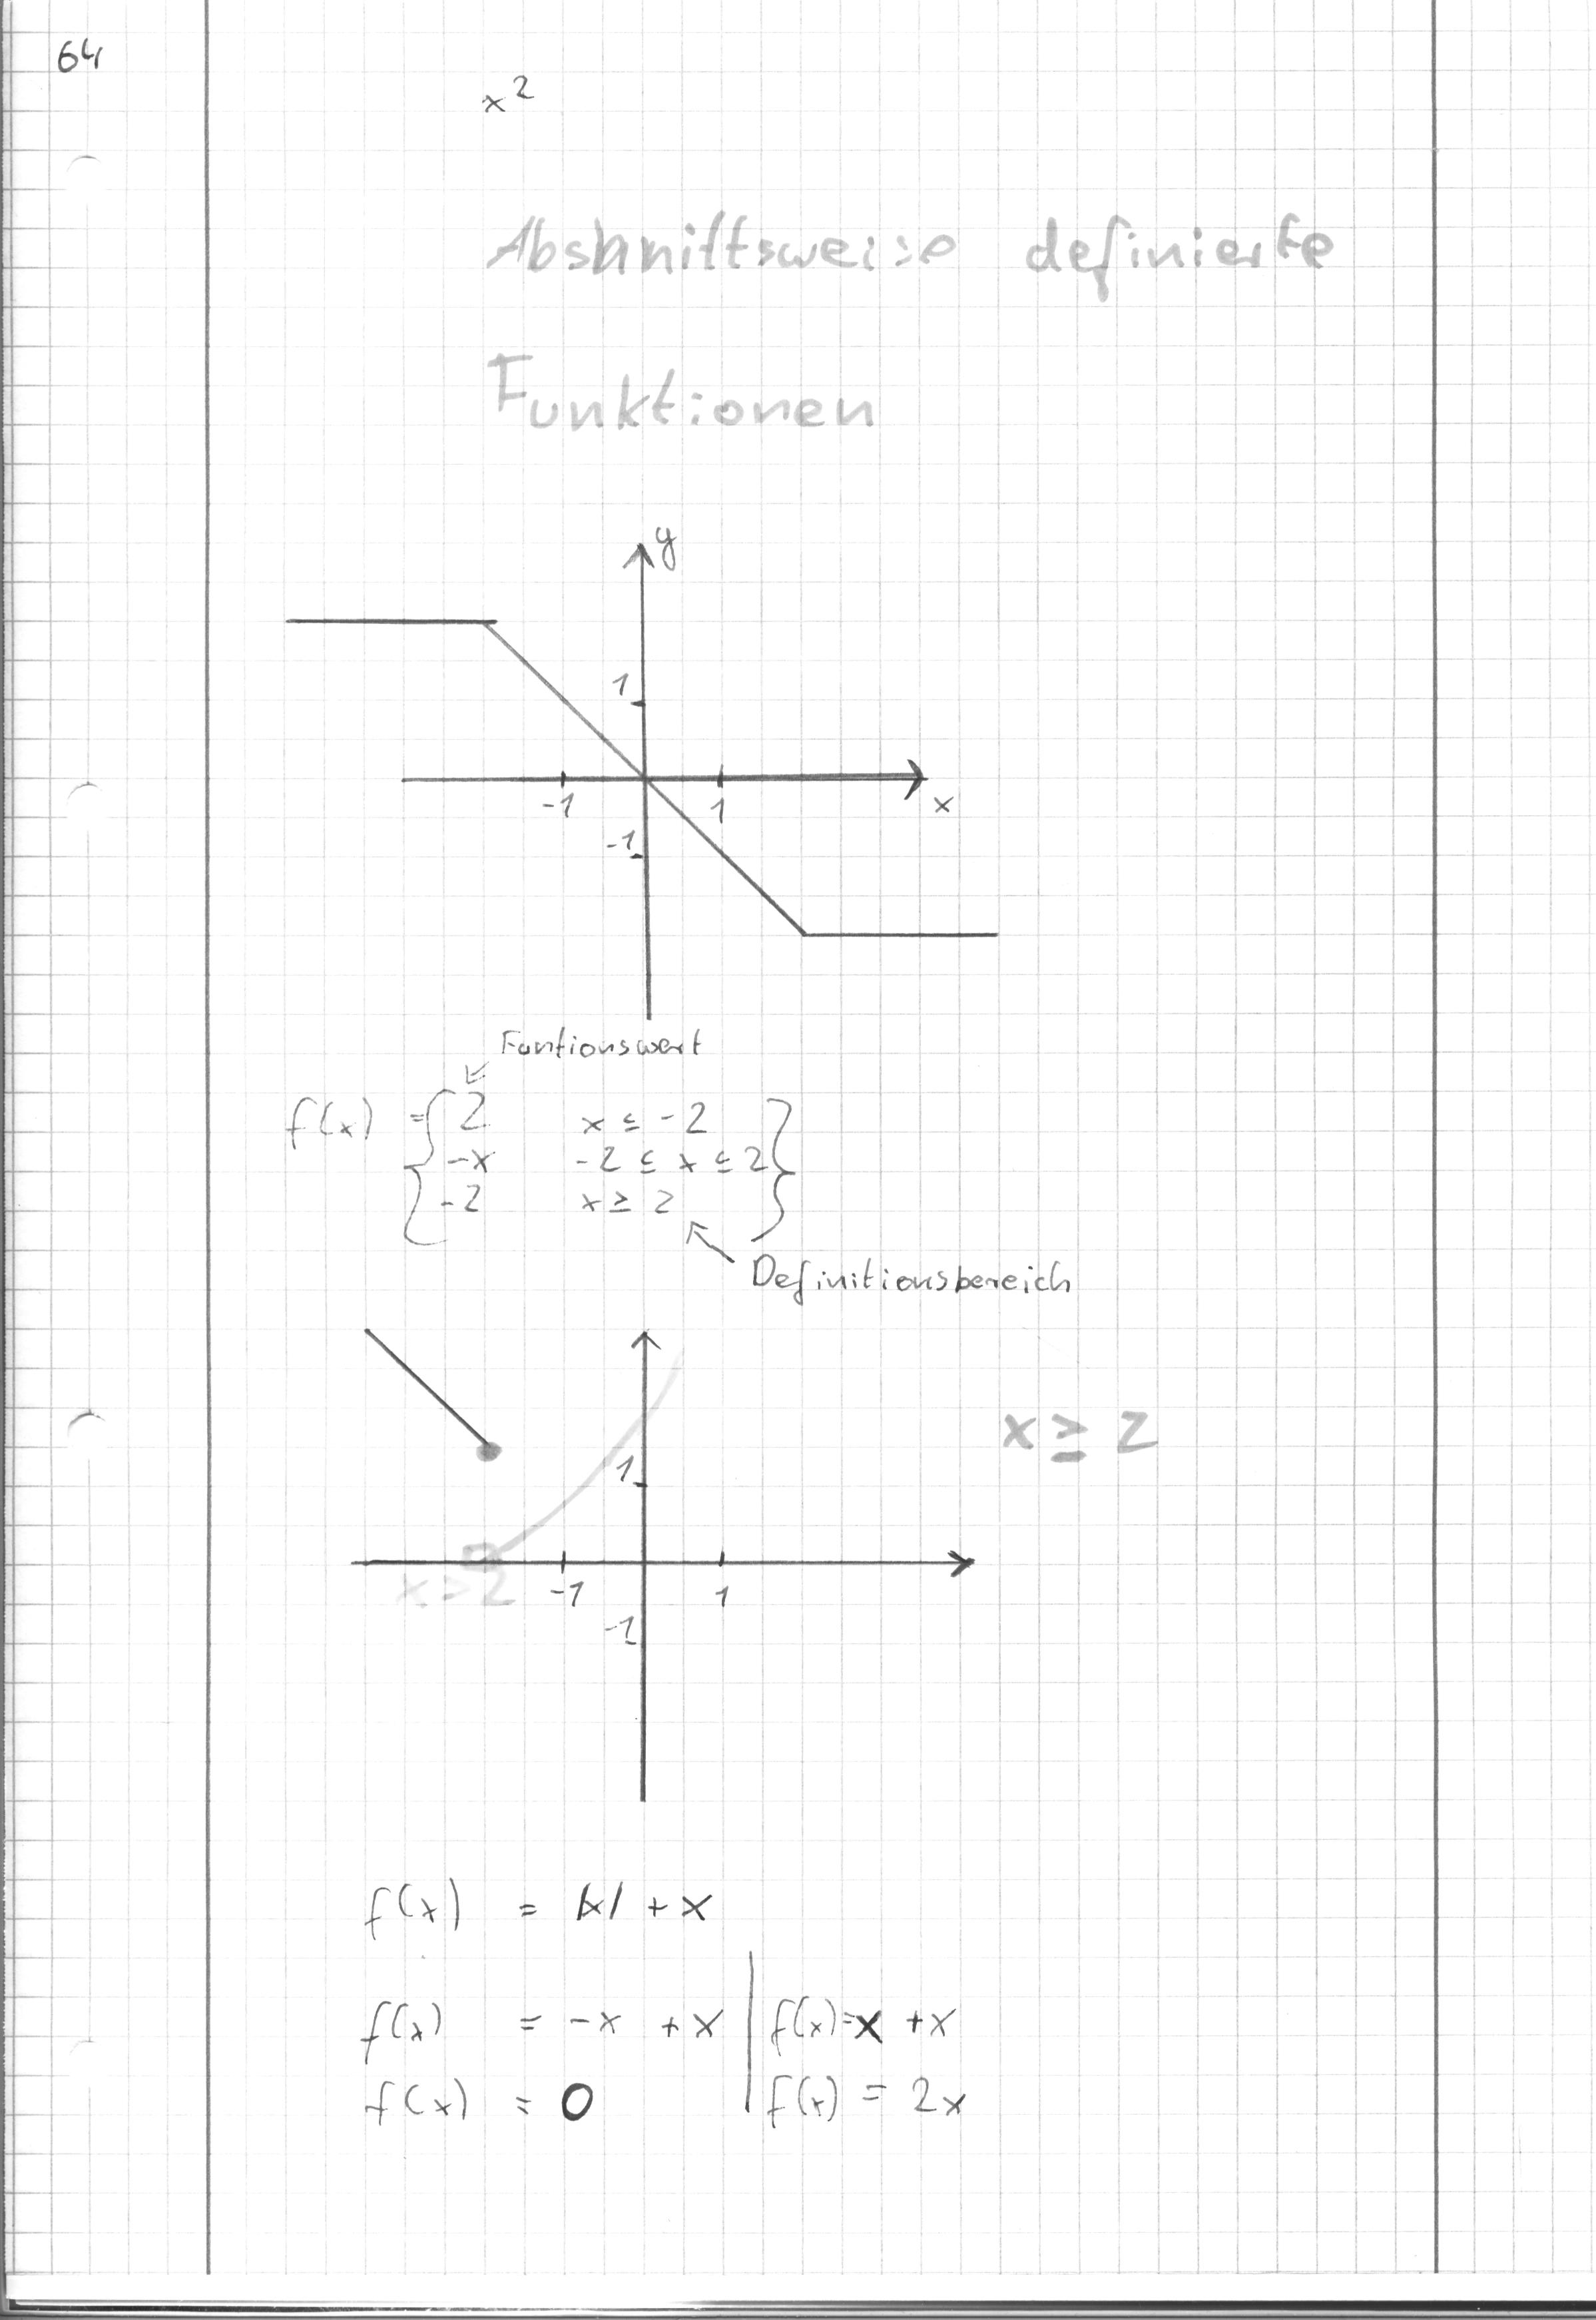word: (276, 1010, 1079, 1314), (340, 1855, 999, 2156)
